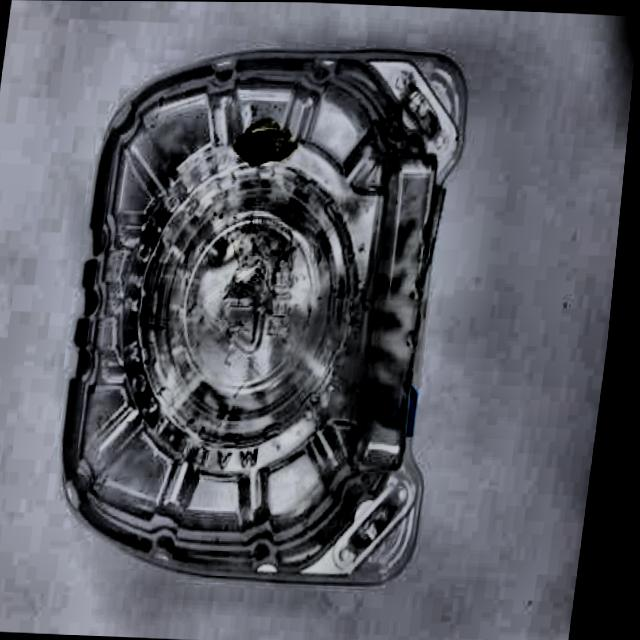Plastic: (43, 19, 496, 609)
